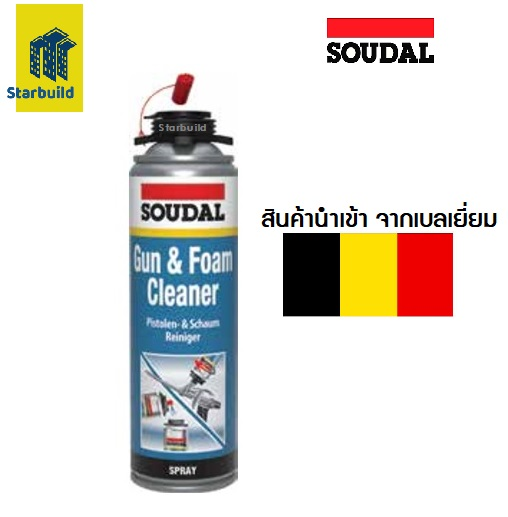Aerosol_cans: (122, 69, 242, 495)
